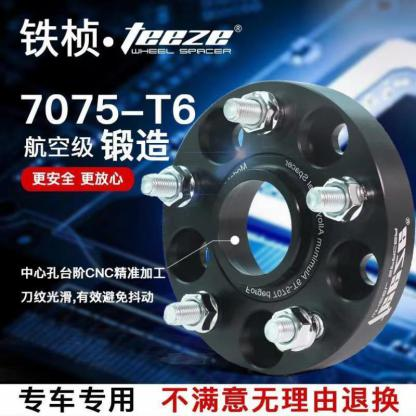FOD: (158, 76, 416, 378)
